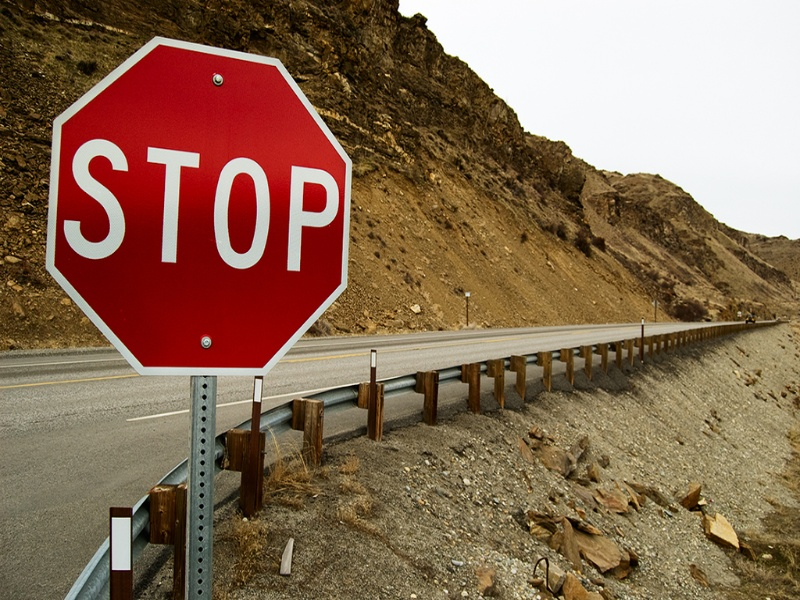stop: (51, 46, 367, 382)
